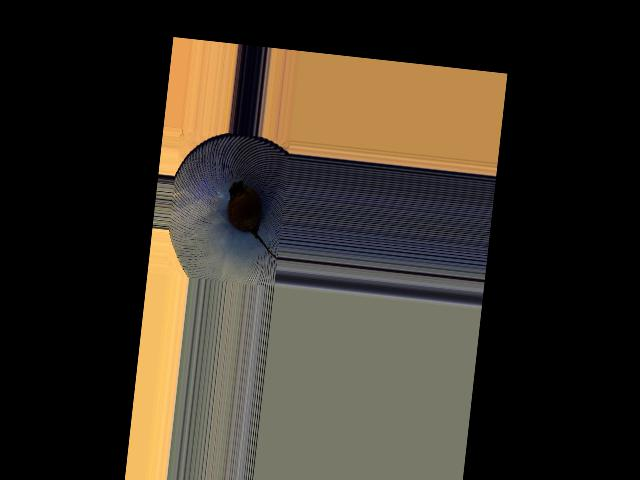beet: (223, 179, 286, 258)
